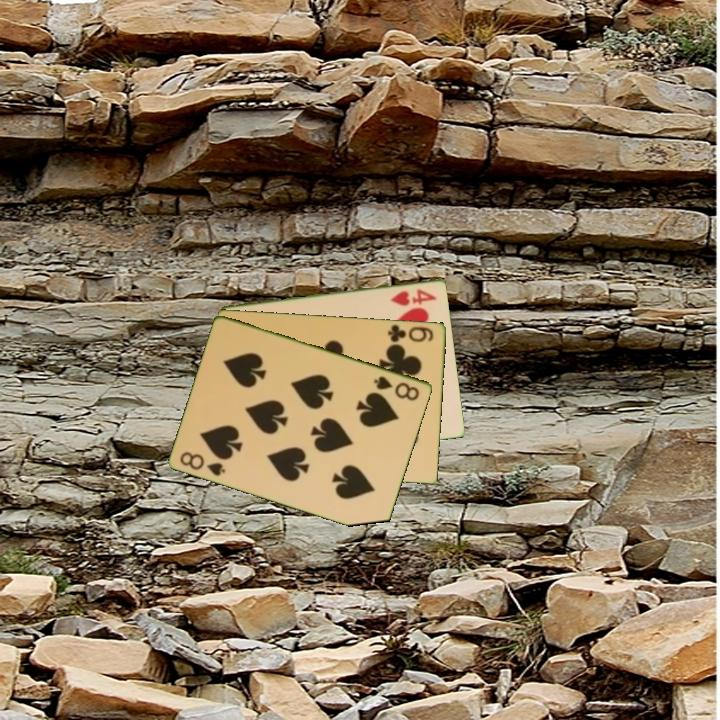4h: (388, 285, 440, 308)
6c: (385, 321, 437, 345)
8s: (370, 372, 423, 403), (177, 448, 229, 479)
